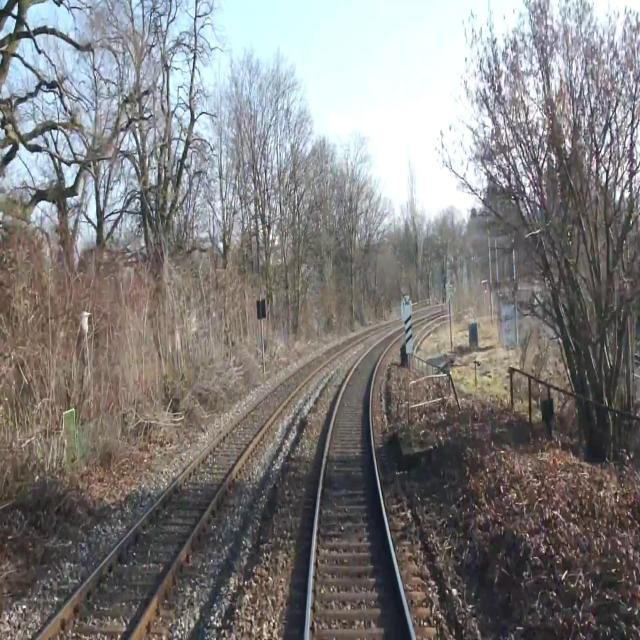rail-track: (38, 335, 362, 639), (310, 328, 411, 639)
